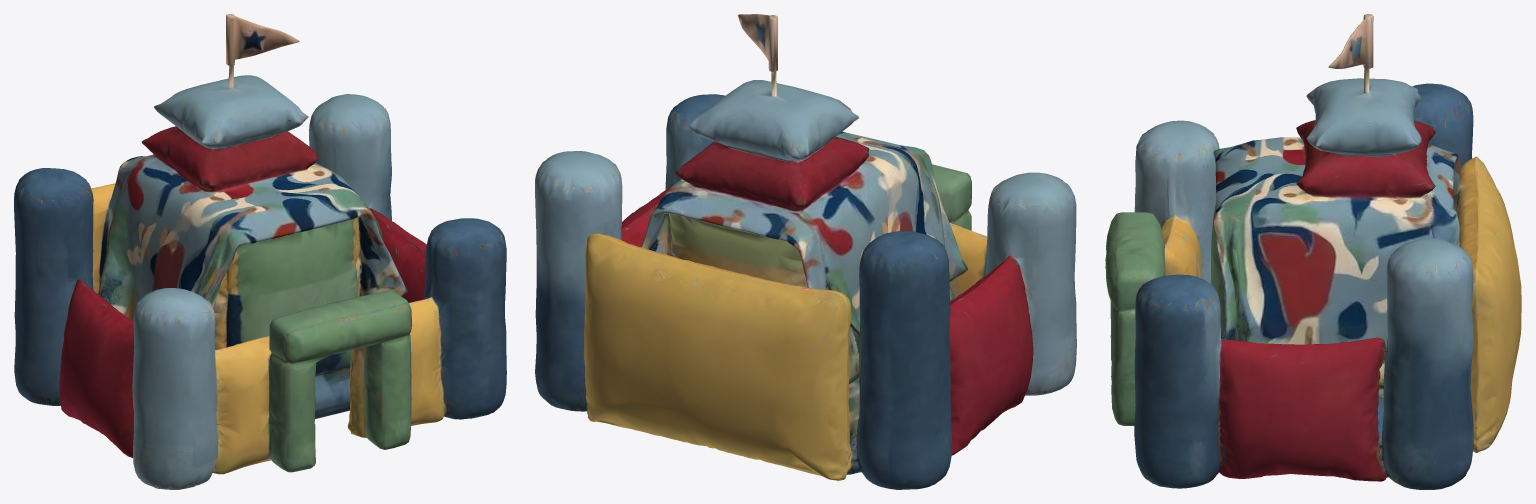
The model's file is fort.glb.
3 renders of one model, left to right at view 1: azimuth 30°, elevation 25°; view 2: azimuth 150°, elevation 25°; view 3: azimuth 270°, elevation 25°, orthographic. The views are drawn at different scales.
Parts seen in each view (by area): view 1: Mesh_0; view 2: Mesh_0; view 3: Mesh_0.
Boxes of the visible parts, x1=… form: Mesh_0: x1=14, y1=14, x2=506, y2=489; Mesh_0: x1=535, y1=14, x2=1076, y2=489; Mesh_0: x1=1105, y1=14, x2=1521, y2=489.
Bounding box in the file's own units: 1.91 × 1.79 × 1.76.
1 material, 1 textured.
